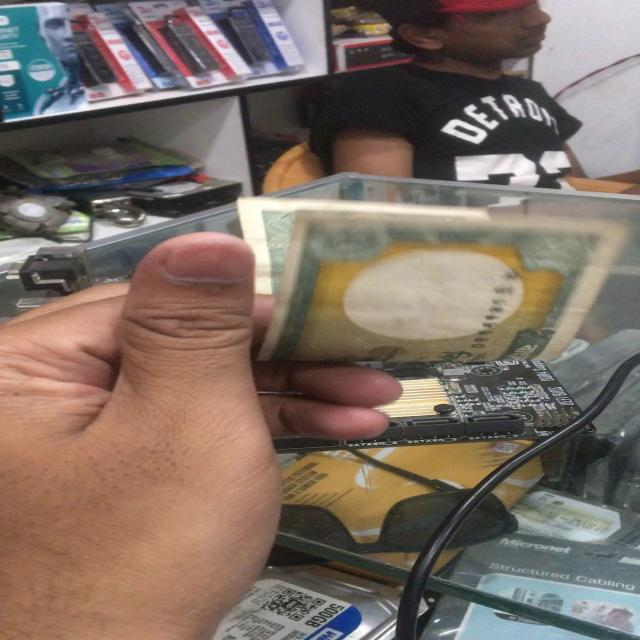Taka: (242, 194, 614, 365)
